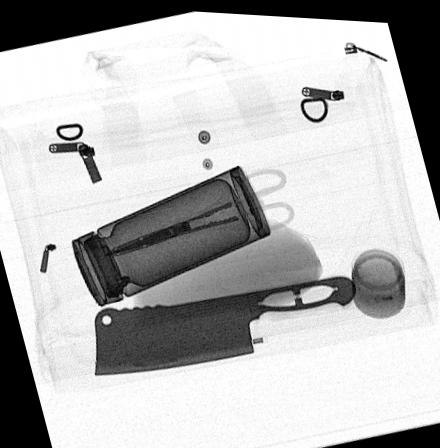Knife: (93, 271, 354, 374)
Scissors: (103, 163, 294, 253)
